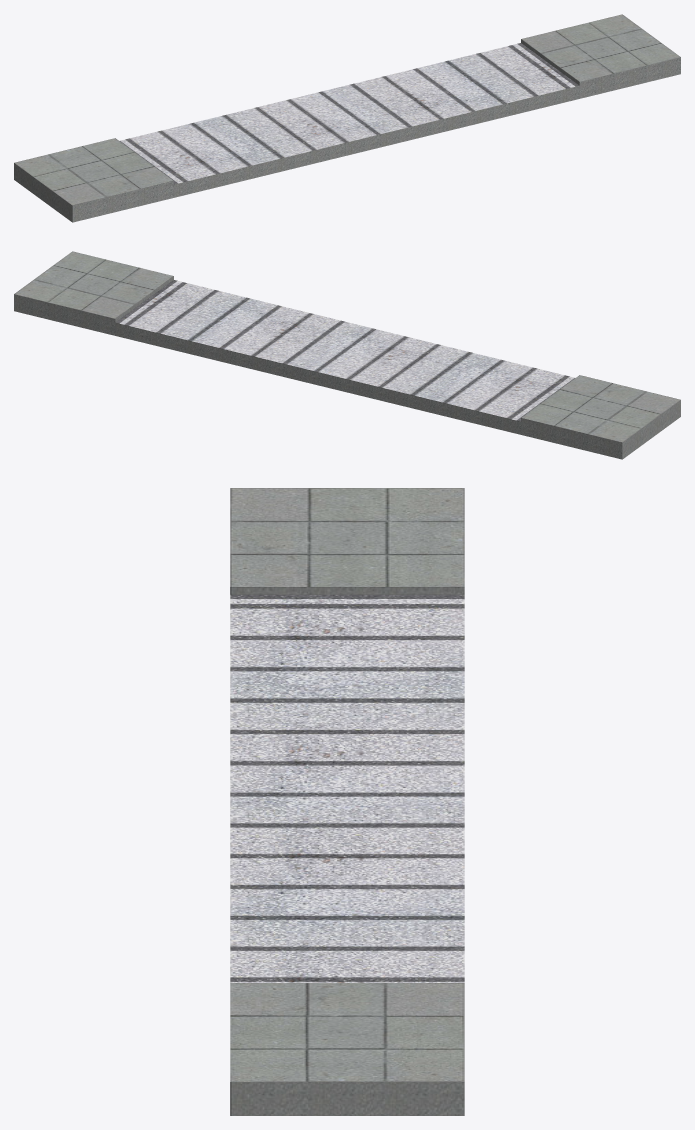
The model's file is route_passage.fbx.
3 renders of one model, top to bottom at view 1: azimuth 30°, elevation 25°; view 2: azimuth 150°, elevation 25°; view 3: azimuth 270°, elevation 25°, orthographic. The views are drawn at different scales.
Visible parts, largest first — view 1: Plane; view 2: Plane; view 3: Plane.
Part boxes in pixels (x1,y1,x2,y2): Plane: [14, 14, 680, 222]; Plane: [14, 251, 680, 459]; Plane: [230, 488, 464, 1115].
Bounding box in the file's own units: 1200 × 32.09 × 200.
